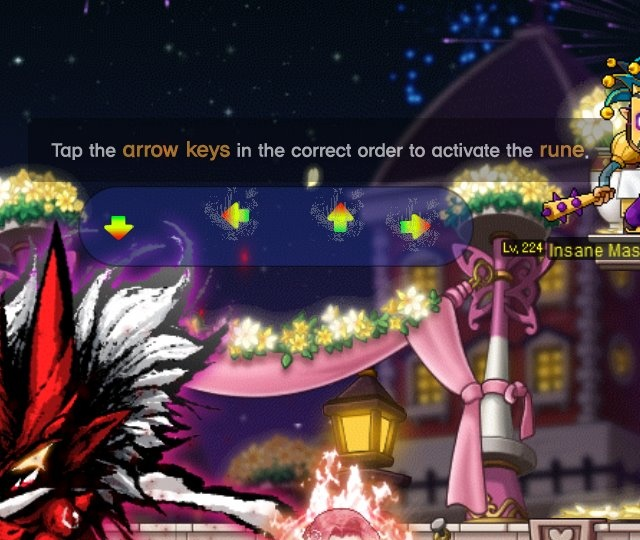rune_box: (69, 176, 487, 275)
